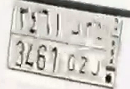1: (50, 12, 62, 75)
3: (14, 4, 28, 67)
6: (36, 7, 51, 71)
G: (66, 22, 81, 72)
J: (89, 22, 106, 77)
